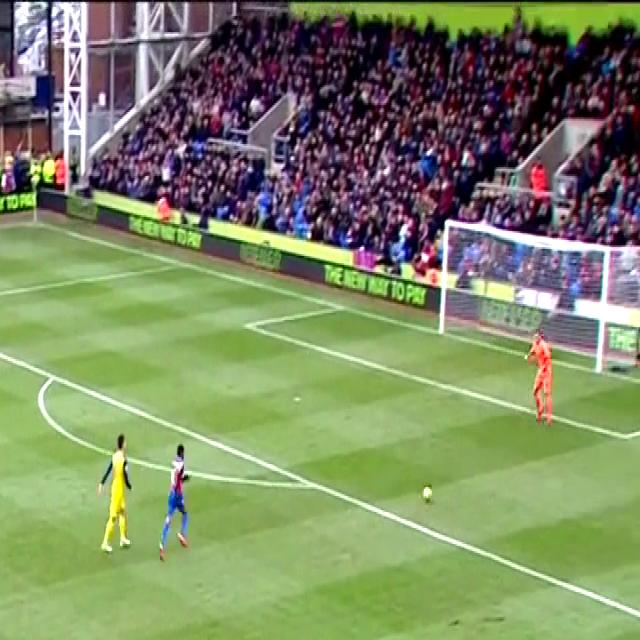ball: (418, 470, 438, 510)
goalkeeper: (519, 322, 566, 434)
soccer-player: (88, 423, 140, 560), (153, 436, 202, 564)
